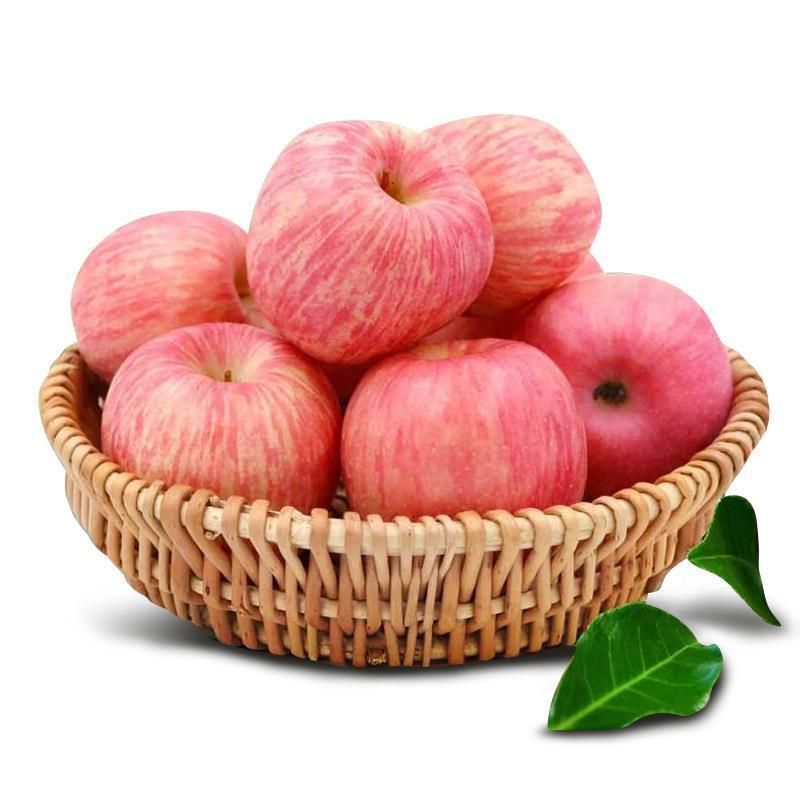apple: (243, 117, 498, 368), (499, 273, 731, 509), (100, 318, 340, 526), (342, 331, 587, 521), (420, 111, 601, 314), (71, 209, 250, 383)
